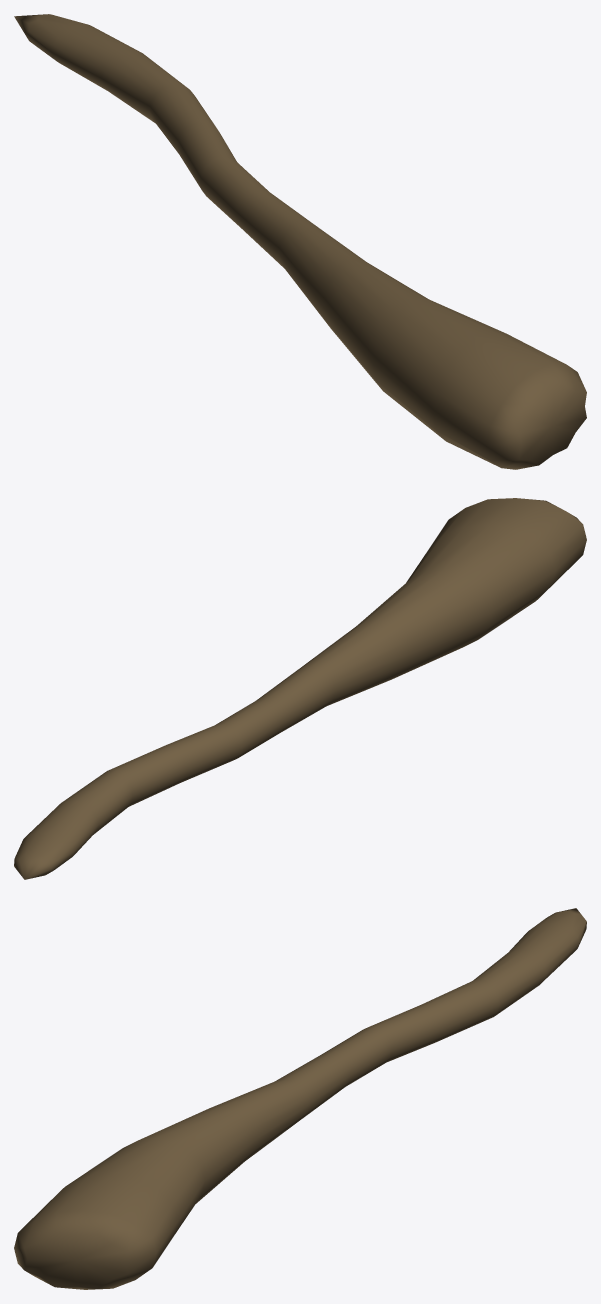
The model's file is BobbaStick.fbx.
3 renders of one model, top to bottom at view 1: azimuth 30°, elevation 25°; view 2: azimuth 150°, elevation 25°; view 3: azimuth 330°, elevation 25°, orthographic. The views are drawn at different scales.
Parts seen in each view (by area): view 1: stick:Mesh; view 2: stick:Mesh; view 3: stick:Mesh.
Part boxes in pixels (x1,y1,x2,y2): stick:Mesh: [14, 14, 586, 469]; stick:Mesh: [14, 498, 586, 879]; stick:Mesh: [14, 908, 586, 1289].
Bounding box in the file's own units: 0.3966 × 0.2627 × 2.71.
